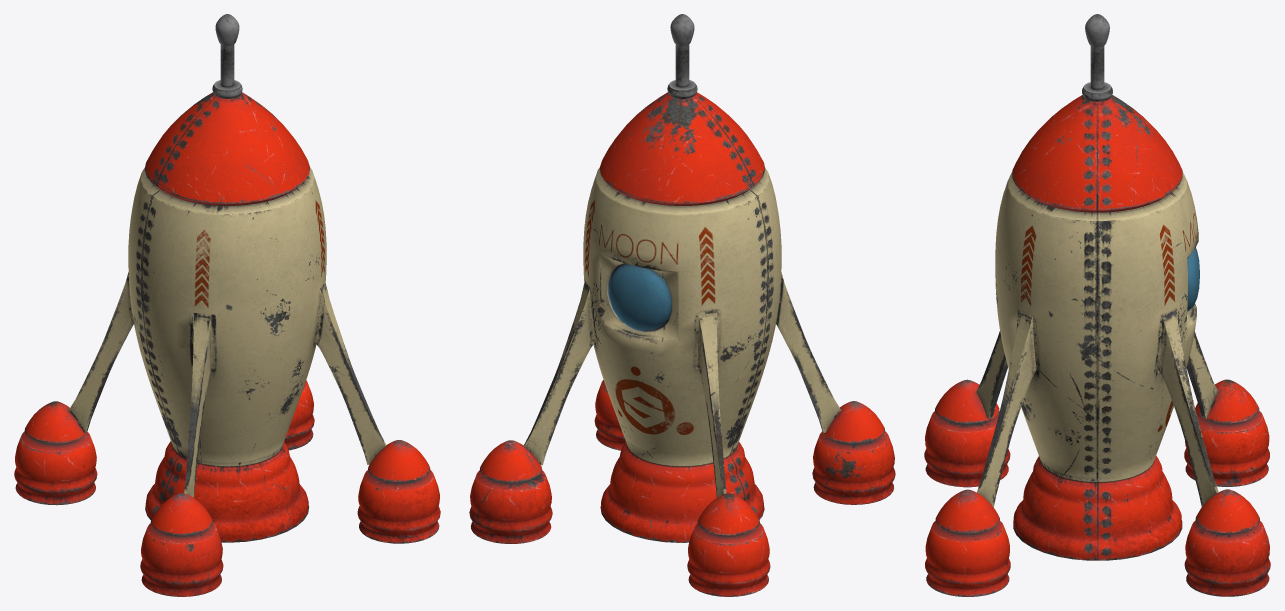
File: rocket_ship.glb
3 renders of one model, left to right at view 1: azimuth 30°, elevation 25°; view 2: azimuth 150°, elevation 25°; view 3: azimuth 270°, elevation 25°, orthographic. The views are drawn at different scales.
Parts seen in each view (by area): view 1: defaultMaterial; view 2: defaultMaterial; view 3: defaultMaterial.
Boxes of the visible parts, x1,y1,x2,y2 form: defaultMaterial: [14, 14, 440, 596]; defaultMaterial: [469, 14, 895, 596]; defaultMaterial: [924, 14, 1270, 596].
Bounding box in the file's own units: 1.23 × 2 × 1.23.
Materials: 1 (1 with a texture image).
